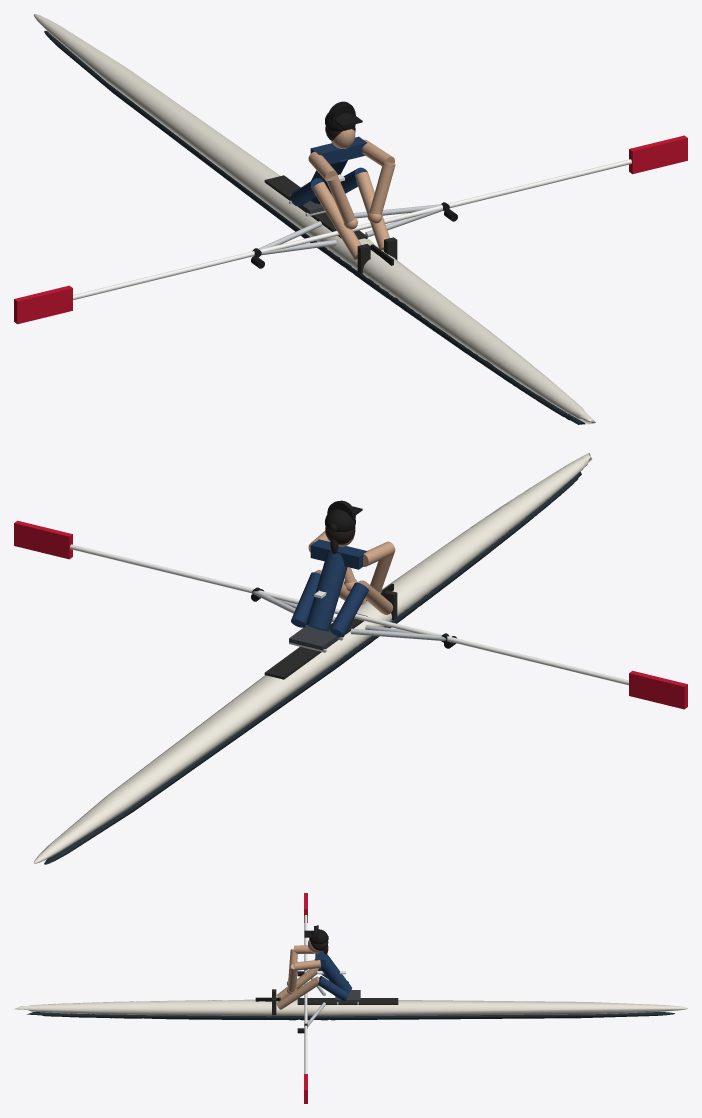
The model's file is scull-female.glb.
3 renders of one model, top to bottom at view 1: azimuth 30°, elevation 25°; view 2: azimuth 150°, elevation 25°; view 3: azimuth 270°, elevation 25°, orthographic. The views are drawn at different scales.
Visible parts, largest first — view 1: Hull, Hull_Underside, LeftOar_Blade, RightOar_Blade, LeftOar_Shaft, RightOar_Shaft, LeftShin, RightShin, Cockpit, Torso_Shoulders, RightArm_Fore, LeftArm_Fore; view 2: Hull, Hull_Underside, Torso_Spine, LeftOar_Blade, RightOar_Blade, LeftOar_Shaft, RightOar_Shaft, Cockpit, LeftThigh, Torso_Shoulders, Seat_Pan, RightThigh; view 3: Hull, Hull_Underside, Cockpit, Torso_Spine, RightShin, RightThigh.
Part boxes in pixels (x1,y1,x2,y2): Hull: (33, 14, 595, 424); Hull_Underside: (44, 31, 585, 424); LeftOar_Blade: (14, 285, 72, 324); RightOar_Blade: (629, 135, 687, 174); LeftOar_Shaft: (73, 225, 361, 300); RightOar_Shaft: (352, 159, 631, 231); LeftShin: (312, 182, 361, 259); RightShin: (355, 172, 389, 250); Cockpit: (264, 175, 367, 239); Torso_Shoulders: (310, 136, 366, 164); RightArm_Fore: (369, 162, 395, 214); LeftArm_Fore: (326, 174, 355, 223); Hull: (34, 453, 592, 863); Hull_Underside: (44, 471, 581, 864); Torso_Spine: (306, 551, 347, 631); LeftOar_Blade: (629, 670, 687, 709); RightOar_Blade: (14, 520, 72, 559); LeftOar_Shaft: (354, 614, 628, 685); RightOar_Shaft: (70, 544, 360, 617); Cockpit: (264, 613, 367, 679); LeftThigh: (329, 582, 368, 637); Torso_Shoulders: (310, 539, 367, 569); Seat_Pan: (289, 625, 339, 650); RightThigh: (291, 572, 320, 627); Hull: (14, 999, 687, 1016); Hull_Underside: (27, 1012, 674, 1020); Cockpit: (297, 998, 398, 1004); Torso_Spine: (314, 954, 351, 992); RightShin: (276, 976, 319, 1009); RightThigh: (318, 976, 348, 1001).
Size of the model in its own units: 5.56 by 1.21 by 8.03.
